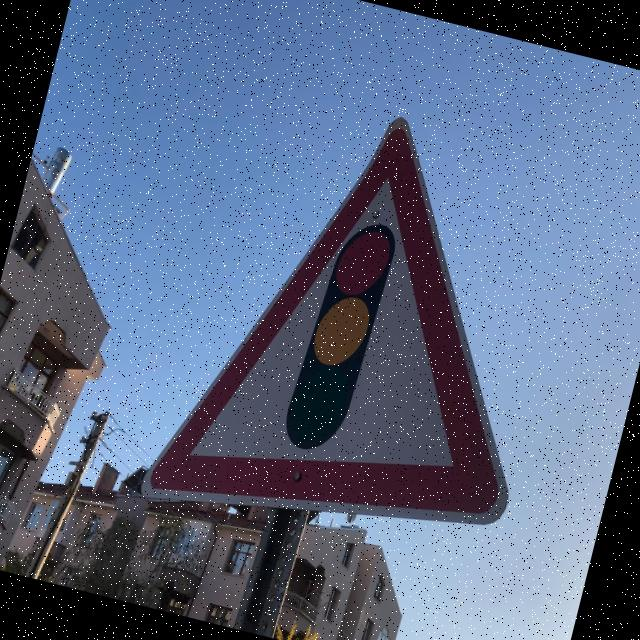light_traffic: (144, 66, 590, 580)
